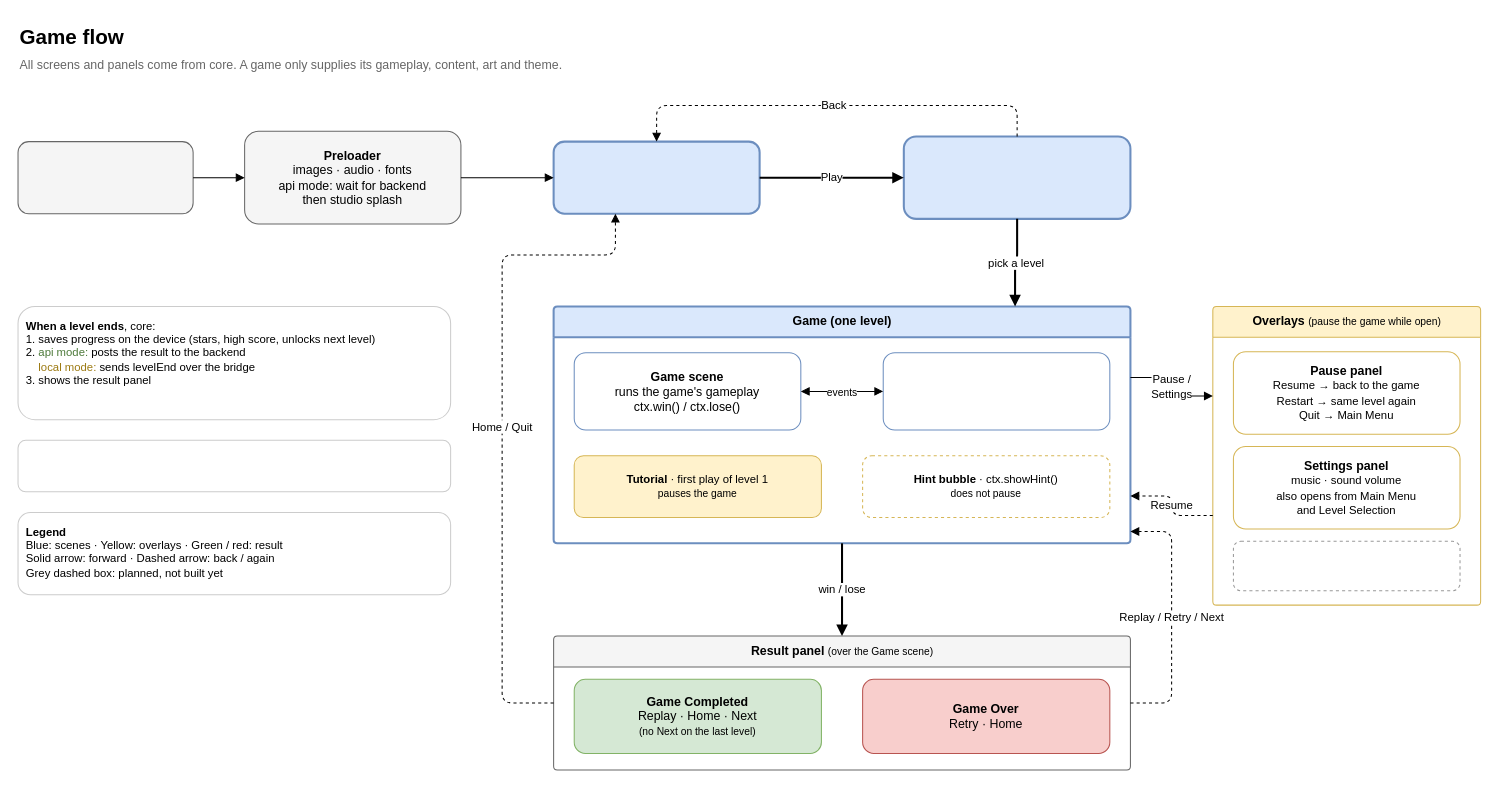
Some shapes in this 1499 by 788 pixel diagram are drawn without their labels. The centre of each missing label's shape, as x and y in pixels:
"Always on top: GlobalUI shows the studio logo (bottom-left) over every scene." goes at point 234,465.
"App / tab hidden → opens Pause (planned)" goes at point 1346,565.
"Boot loading-screen art" goes at point 105,177.
"HUD (UIScene, on top) [Pause] [Settings] HUD text" goes at point 996,391.
"Level Selection [Back] [Settings] locked / unlocked cards" goes at point 1016,177.
"Main Menu Play · [Settings]" goes at point 656,177.
